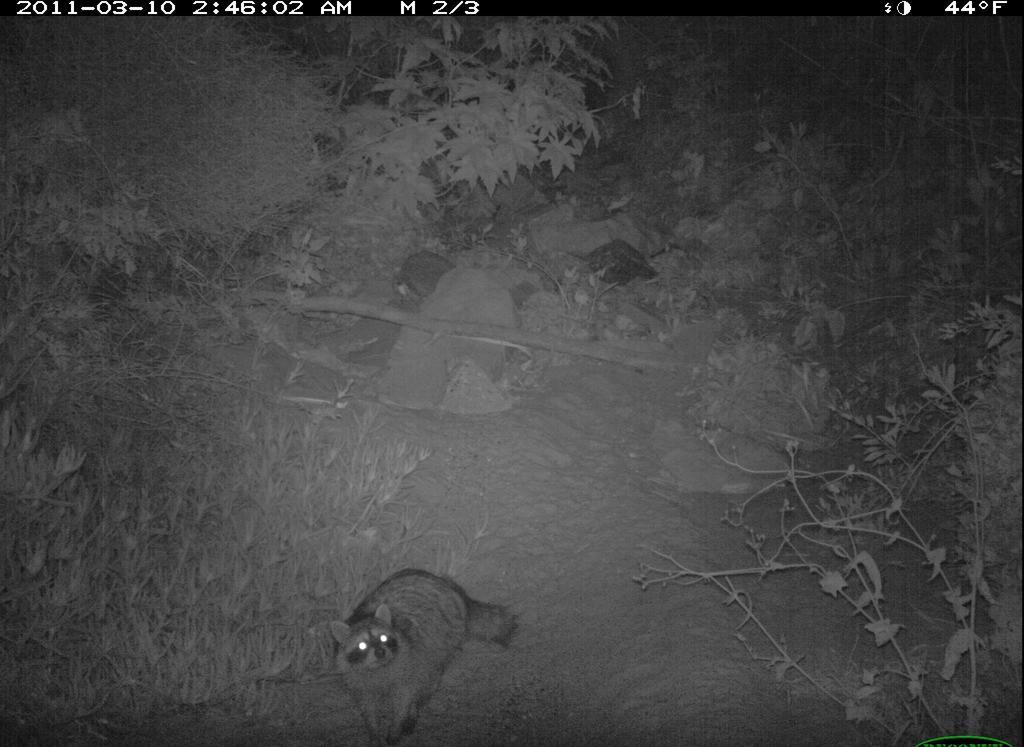raccoon: (306, 555, 528, 745)
